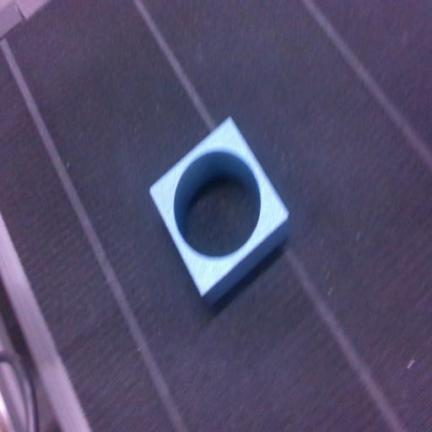square: (150, 118, 288, 302), (150, 118, 287, 302), (151, 119, 288, 302)
